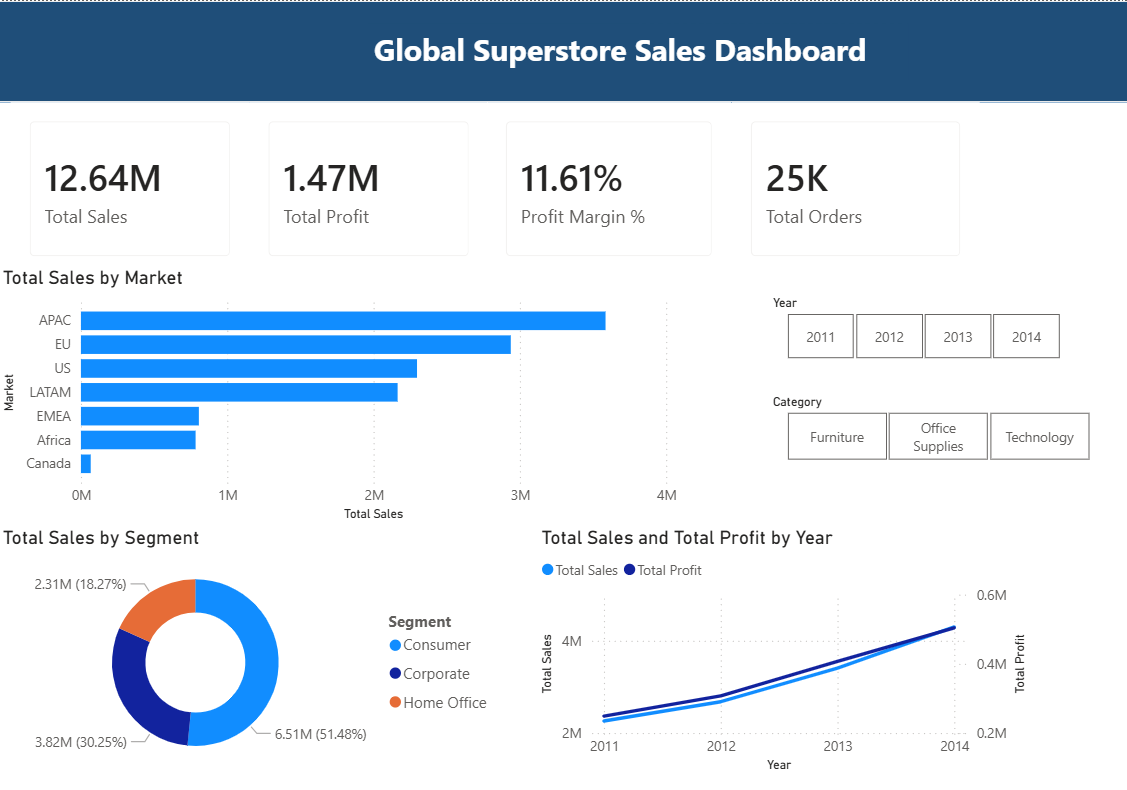

Layout of this report page (visuals, bound fields, positions):
{"tool":"powerbi","page":{"name":"Executive Summary","canvas":[1280,720],"ordinal":0},"visuals":[{"type":"shape","box":[0,0,1217.8,90],"z":0},{"type":"textbox","box":[330,20,480,50],"z":1000},{"type":"cardVisual","fields":{"Data":["DateTable.Total Sales"]},"box":[12,103,212,154],"z":2000},{"type":"cardVisual","fields":{"Data":["DateTable.Total Profit"]},"box":[224,103,212,154],"z":3000},{"type":"cardVisual","fields":{"Data":["DateTable.Profit Margin %"]},"box":[436,103,217,154],"z":4000},{"type":"cardVisual","fields":{"Data":["DateTable.Total Orders"]},"box":[653,103,220,154],"z":5000},{"type":"lineChart","fields":{"Category":["DateTable.Year"],"Y":["DateTable.Total Sales"],"Y2":["DateTable.Total Profit"]},"box":[18.9,255.6,362.2,238.9],"z":6000},{"type":"donutChart","title":"Total Sales  by Segment","fields":{"Category":["superstore_cleaned.Segment"],"Y":["DateTable.Total Sales"]},"box":[453.3,255.6,356.7,231.1],"z":7000},{"type":"clusteredBarChart","title":"Total Sales by Market","fields":{"Category":["superstore_cleaned.Market"],"Y":["DateTable.Total Sales"]},"box":[18.9,494.4,853.3,225.6],"z":8000},{"type":"slicer","fields":{"Values":["DateTable.Year"]},"box":[903.3,103.3,284.4,130],"z":9000},{"type":"slicer","fields":{"Values":["superstore_cleaned.Category"]},"box":[903.3,255.6,284.4,142.2],"z":10000}]}

Visuals, with their boxes on the page's 1280x720 design canvas (x1, y1, x2, y2). These are canvas units, not pixel positions in the 1127x790 screenshot, which may show the page scaled, cropped or inside an application window:
shape: x1=0, y1=0, x2=1218, y2=90
textbox: x1=330, y1=20, x2=810, y2=70
cardVisual - DateTable.Total Sales: x1=12, y1=103, x2=224, y2=257
cardVisual - DateTable.Total Profit: x1=224, y1=103, x2=436, y2=257
cardVisual - DateTable.Profit Margin %: x1=436, y1=103, x2=653, y2=257
cardVisual - DateTable.Total Orders: x1=653, y1=103, x2=873, y2=257
lineChart - DateTable.Year x DateTable.Total Sales: x1=19, y1=256, x2=381, y2=494
"Total Sales  by Segment" donutChart: x1=453, y1=256, x2=810, y2=487
"Total Sales by Market" clusteredBarChart: x1=19, y1=494, x2=872, y2=720
slicer - DateTable.Year: x1=903, y1=103, x2=1188, y2=233
slicer - superstore_cleaned.Category: x1=903, y1=256, x2=1188, y2=398
